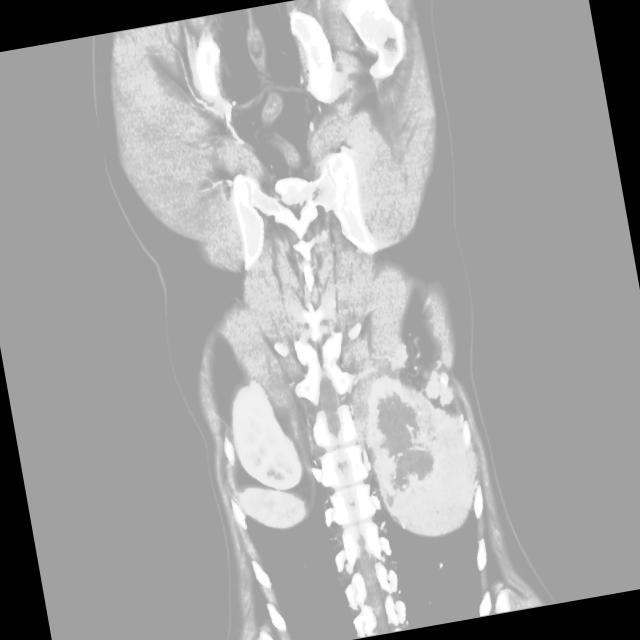TUMOR: (165, 228, 546, 580)
